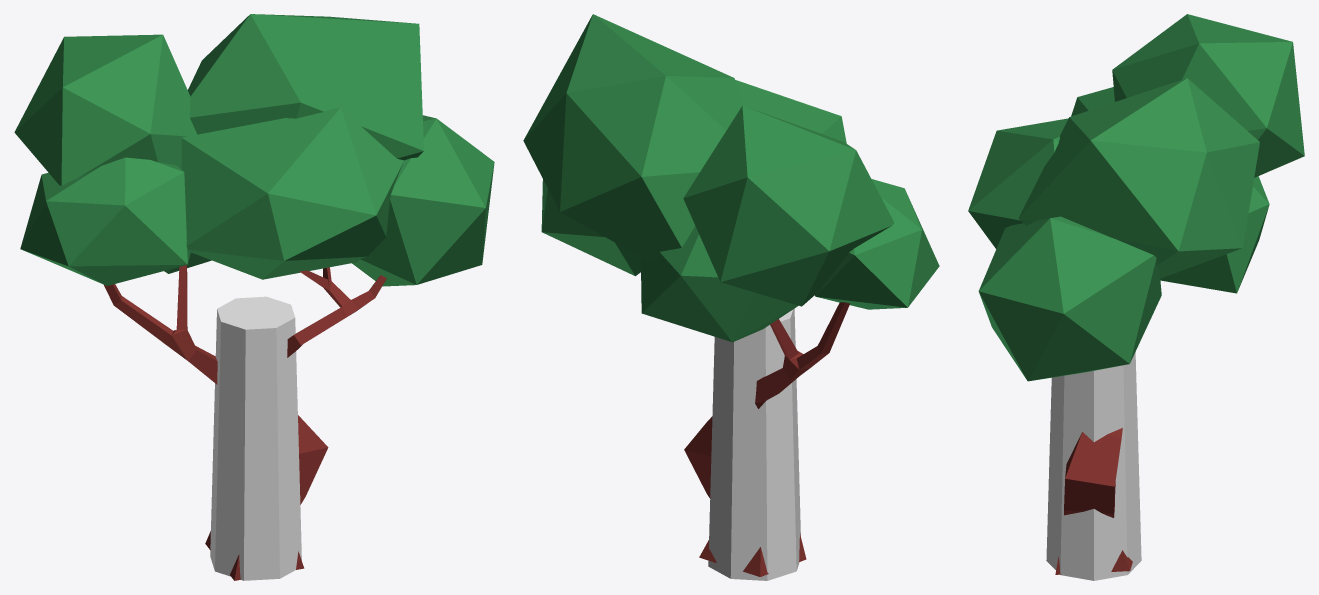
The model's file is floresta_tree_oak_medium_green.glb.
The picture shows the model from 3 angles, left to right: view 1: azimuth 30°, elevation 25°; view 2: azimuth 150°, elevation 25°; view 3: azimuth 270°, elevation 25°; orthographic projection.
Parts seen in each view (by area): view 1: Oak middle green f, Colisao; view 2: Oak middle green f, Colisao; view 3: Oak middle green f, Colisao.
Part boxes in pixels (left/top/right/bottom): Oak middle green f: left=14, top=14, right=494, bottom=580; Colisao: left=210, top=296, right=301, bottom=580; Oak middle green f: left=523, top=14, right=939, bottom=576; Colisao: left=708, top=308, right=800, bottom=580; Oak middle green f: left=968, top=14, right=1304, bottom=574; Colisao: left=1046, top=352, right=1141, bottom=580.
Bounding box in the file's own units: 10.85 × 12.52 × 7.6.
